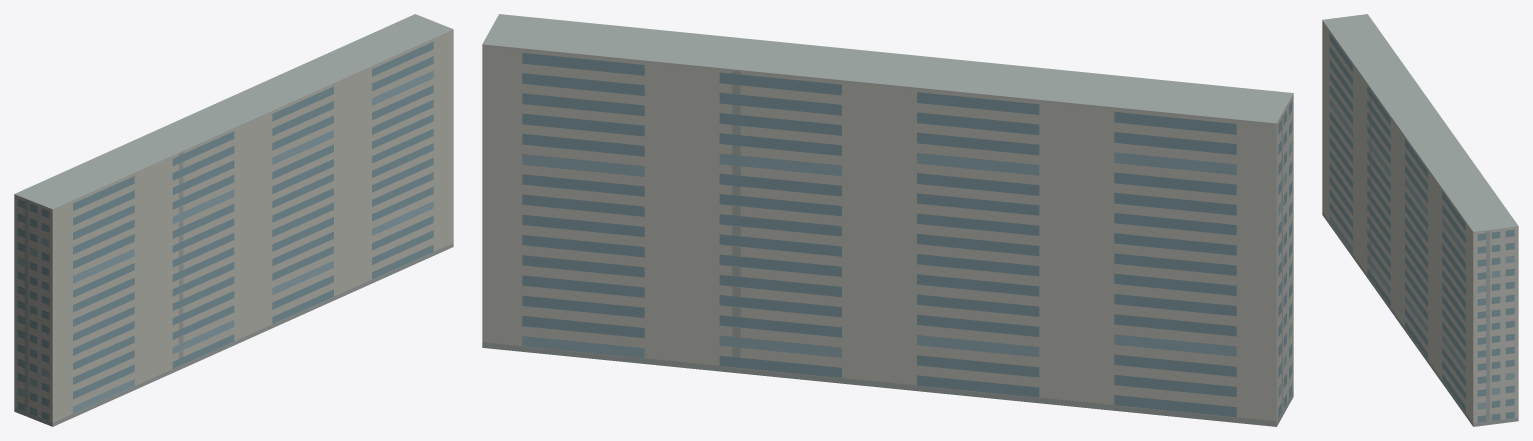
File: residential-6afca320-5dd8-499c-b3b0-d7075889304c.glb
3 renders of one model, left to right at view 1: azimuth 30°, elevation 25°; view 2: azimuth 150°, elevation 25°; view 3: azimuth 270°, elevation 25°, orthographic. The views are drawn at different scales.
Visible parts, largest first — view 1: residential-6afca320-5dd8-499c-b3b0-d7075889304c.tmp; view 2: residential-6afca320-5dd8-499c-b3b0-d7075889304c.tmp; view 3: residential-6afca320-5dd8-499c-b3b0-d7075889304c.tmp.
Part boxes in pixels (bbox=[...]): residential-6afca320-5dd8-499c-b3b0-d7075889304c.tmp: bbox=[14, 14, 453, 426]; residential-6afca320-5dd8-499c-b3b0-d7075889304c.tmp: bbox=[482, 14, 1293, 426]; residential-6afca320-5dd8-499c-b3b0-d7075889304c.tmp: bbox=[1322, 14, 1518, 426].
Bounding box in the file's own units: 110 × 45.75 × 41.81.
